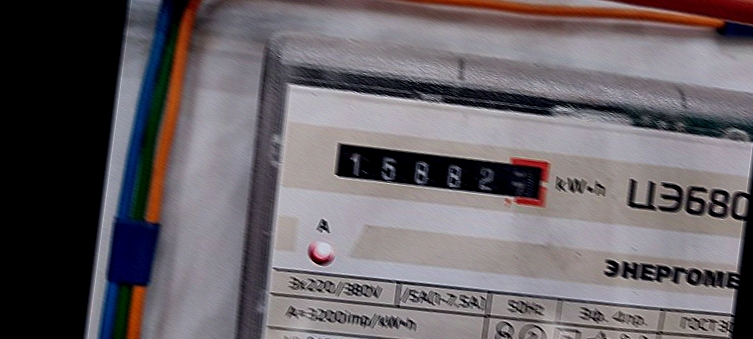1: (346, 148, 363, 177)
2: (476, 163, 495, 193)
5: (378, 153, 399, 182)
7: (508, 177, 526, 196)
8: (410, 157, 430, 187), (444, 160, 463, 190)
screen: (319, 124, 560, 216)
